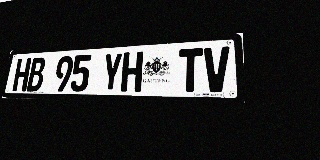5: (70, 54, 91, 92)
9: (53, 56, 74, 92)
B: (26, 57, 46, 91)
H: (120, 51, 144, 92), (12, 58, 31, 91)
T: (178, 48, 203, 92)
V: (203, 46, 230, 92)
Y: (100, 53, 123, 92)
